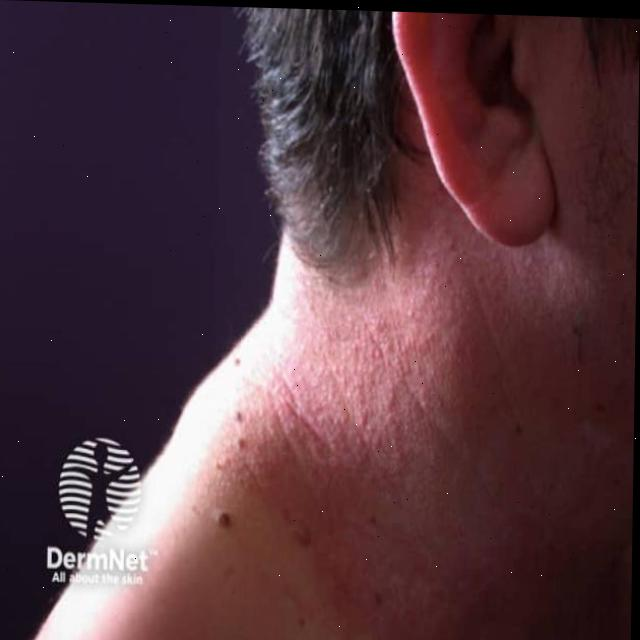Eczema: (247, 249, 610, 623)
